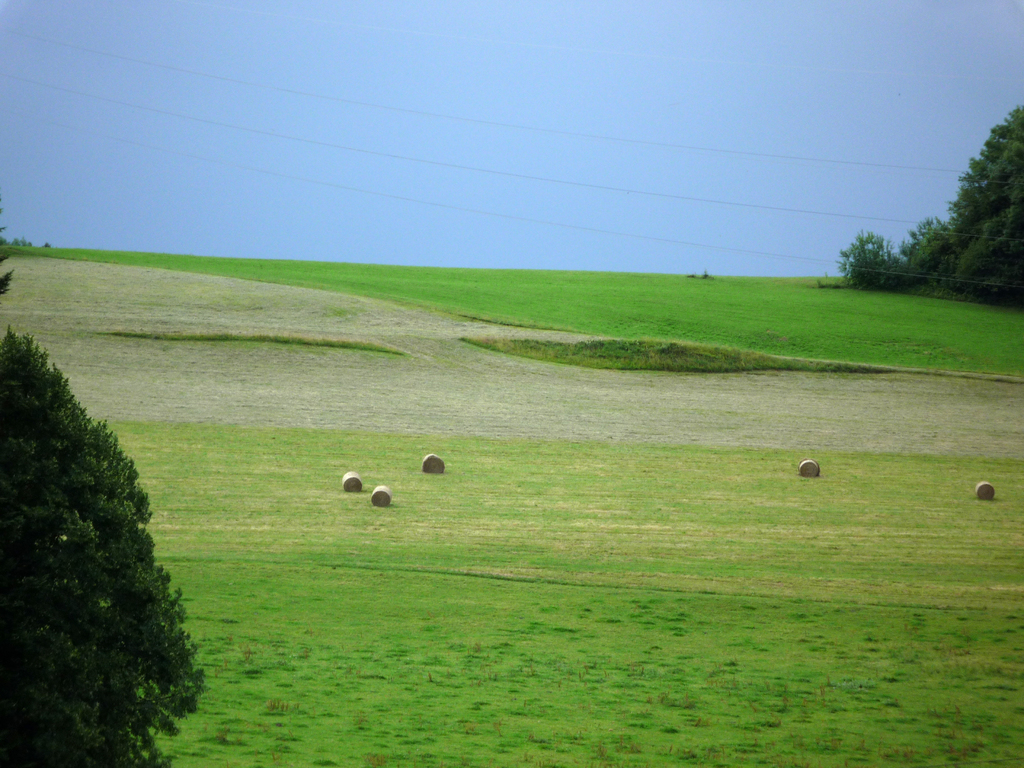Tree: (0, 325, 207, 767), (839, 108, 1023, 305)
